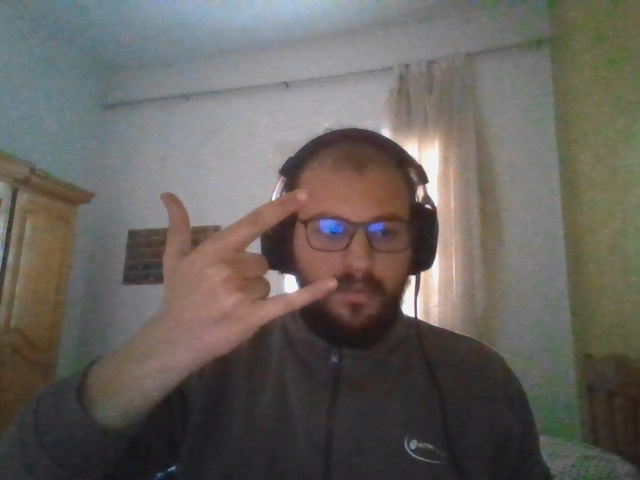I Love You: (159, 193, 339, 361)
